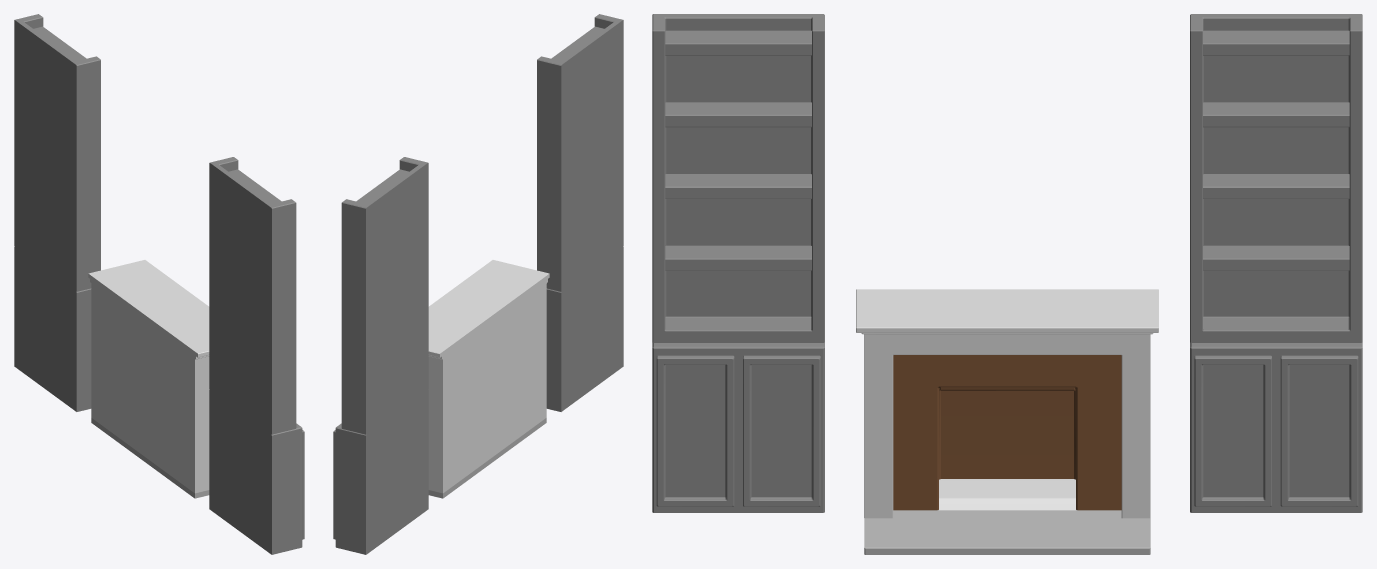
Rendered from Fireplace.fbx.
3 views of the same model, side by side, from view 1: azimuth 30°, elevation 25°; view 2: azimuth 150°, elevation 25°; view 3: azimuth 270°, elevation 25° (orthographic). The views are drawn at different scales.
Visible parts, largest first — view 1: FireplaceCabinet_1, FireplaceCabinet_2, Fireplace; view 2: FireplaceCabinet_2, FireplaceCabinet_1, Fireplace; view 3: FireplaceCabinet_1, FireplaceCabinet_2, Fireplace.
Boxes of the visible parts, x1,y1,x2,y2 form: FireplaceCabinet_1: [209, 157, 304, 554]; FireplaceCabinet_2: [14, 14, 100, 411]; Fireplace: [88, 260, 209, 498]; FireplaceCabinet_2: [333, 157, 428, 554]; FireplaceCabinet_1: [537, 14, 623, 411]; Fireplace: [428, 260, 549, 498]; FireplaceCabinet_1: [652, 14, 824, 512]; FireplaceCabinet_2: [1190, 14, 1362, 512]; Fireplace: [856, 289, 1158, 554].
Bounding box in the file's own units: 1.88 × 6.67 × 8.98.
